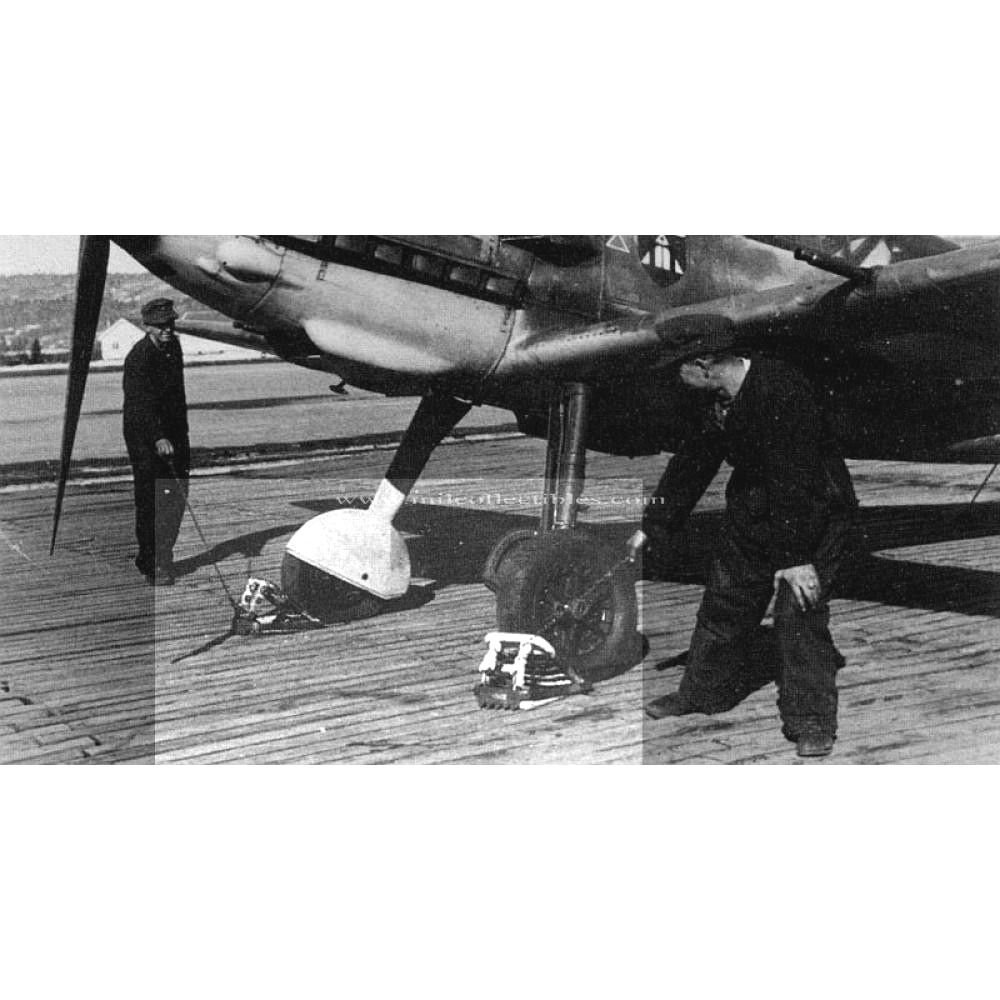chock: (473, 627, 597, 716), (226, 570, 320, 643)
wheel: (479, 526, 646, 682), (274, 500, 411, 621)
